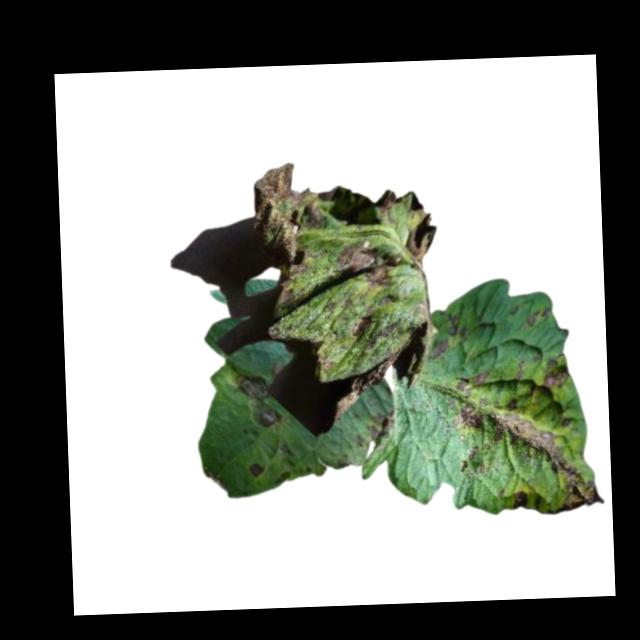Early_blight: (452, 396, 598, 516), (252, 162, 328, 309), (337, 349, 404, 418), (332, 241, 401, 291), (234, 374, 279, 428), (401, 211, 440, 261), (430, 315, 464, 360), (541, 356, 571, 390), (453, 370, 489, 395), (375, 187, 398, 226), (352, 313, 374, 339), (379, 319, 400, 340), (247, 462, 263, 478)
